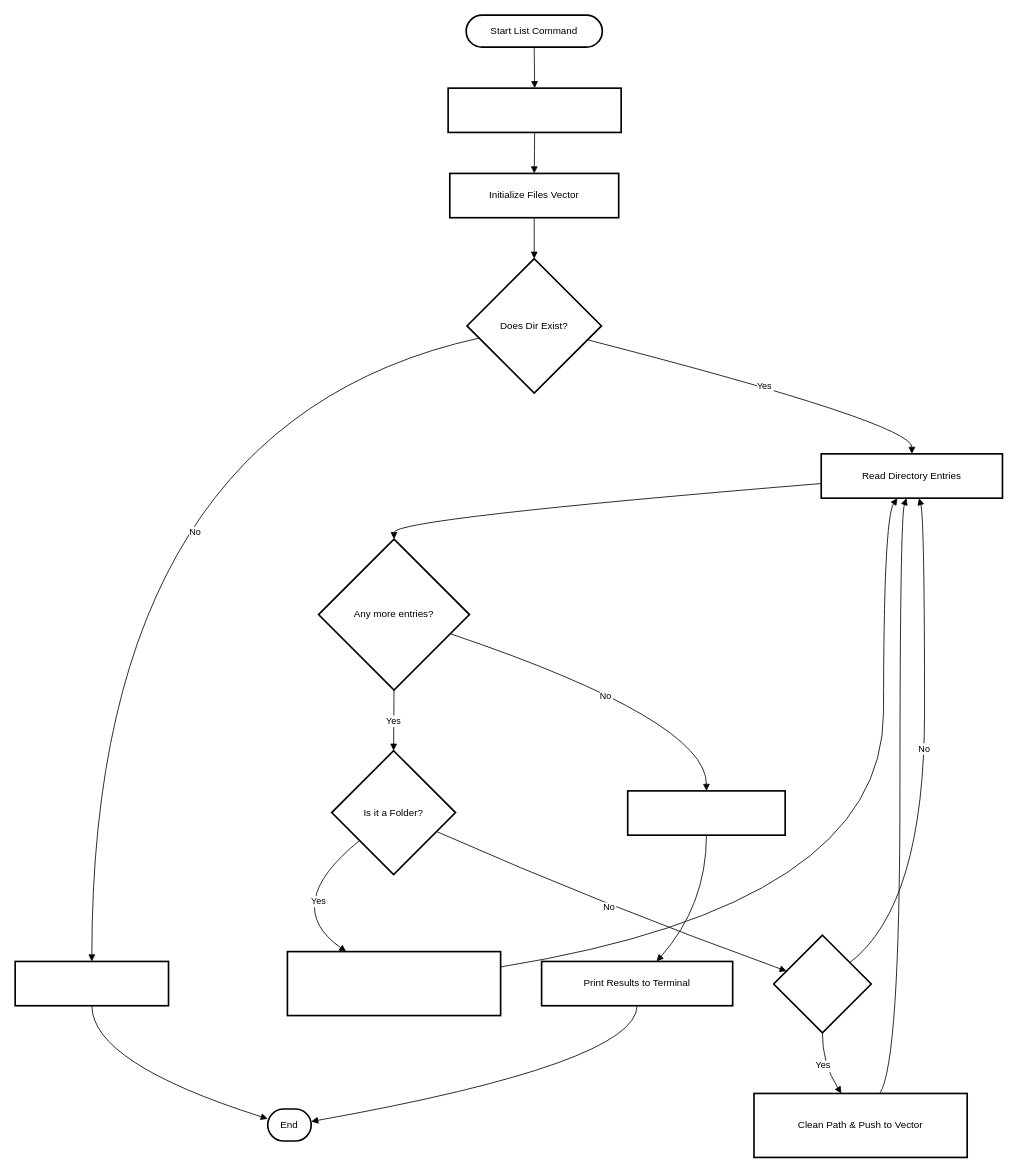
The diagram is 1017 pixels wide and 1172 high, and some of its shapes have lost their labels. Each missing label, with the centre of its shape:
Enter Folder & Repeat Scan: (393,983)
Is it .md?: (822,983)
Resolve Path: .fsk/db: (534,110)
Return Empty List: (91,983)
Sort Alphabetically: (706,813)
